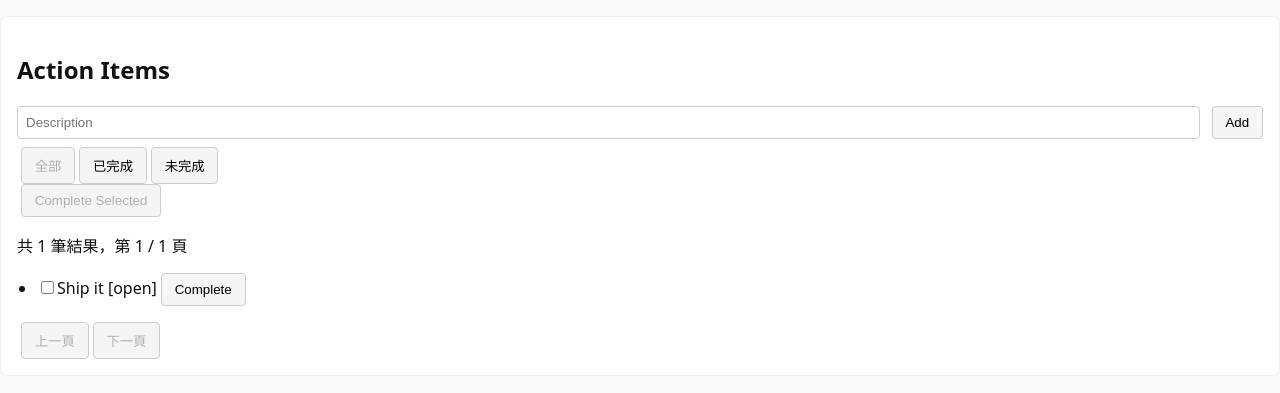
Test: ActionItemsSection › marks an action item as complete
This screenshot has width=1280, height=393.
Expected: the list item "Ship it [open] Complete" is shown, x1=41 y1=273 x2=246 y2=306
Click the button "Complete": (203, 289) x1=161 y1=273 x2=246 y2=306
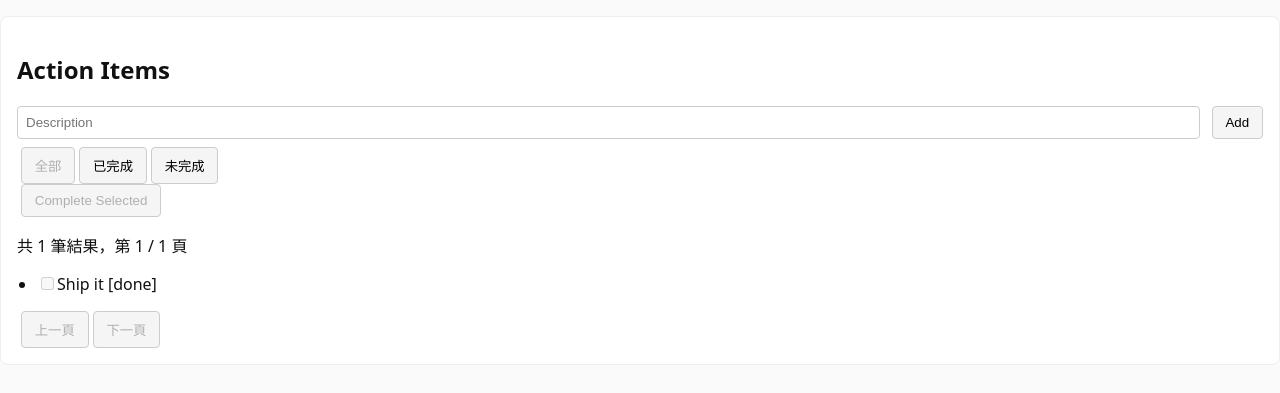
Expected: the list item "Ship it [done]" is shown, x1=41 y1=273 x2=157 y2=295
